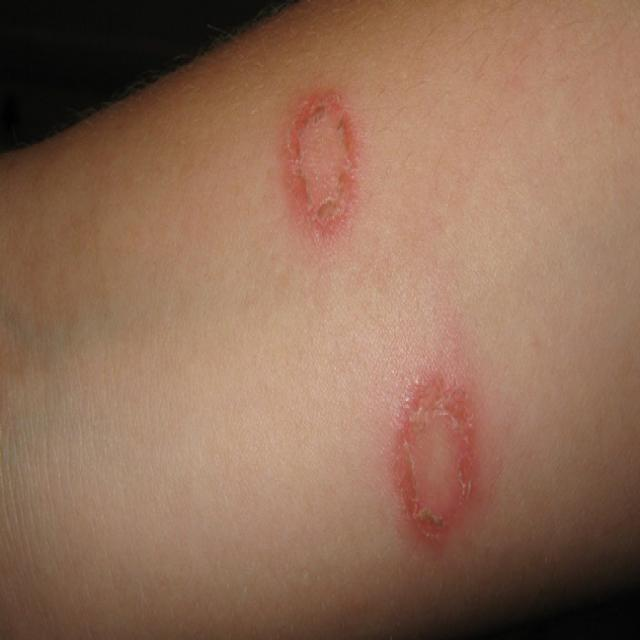tinea: (385, 362, 506, 588), (273, 81, 375, 275)
